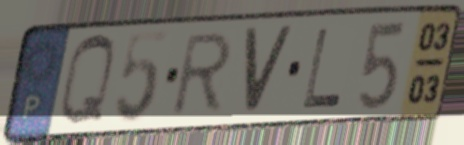5: (112, 28, 176, 128), (353, 17, 413, 112)
L: (299, 25, 344, 111)
Q: (56, 31, 119, 131)
R: (166, 28, 237, 121)
V: (241, 24, 297, 119)
